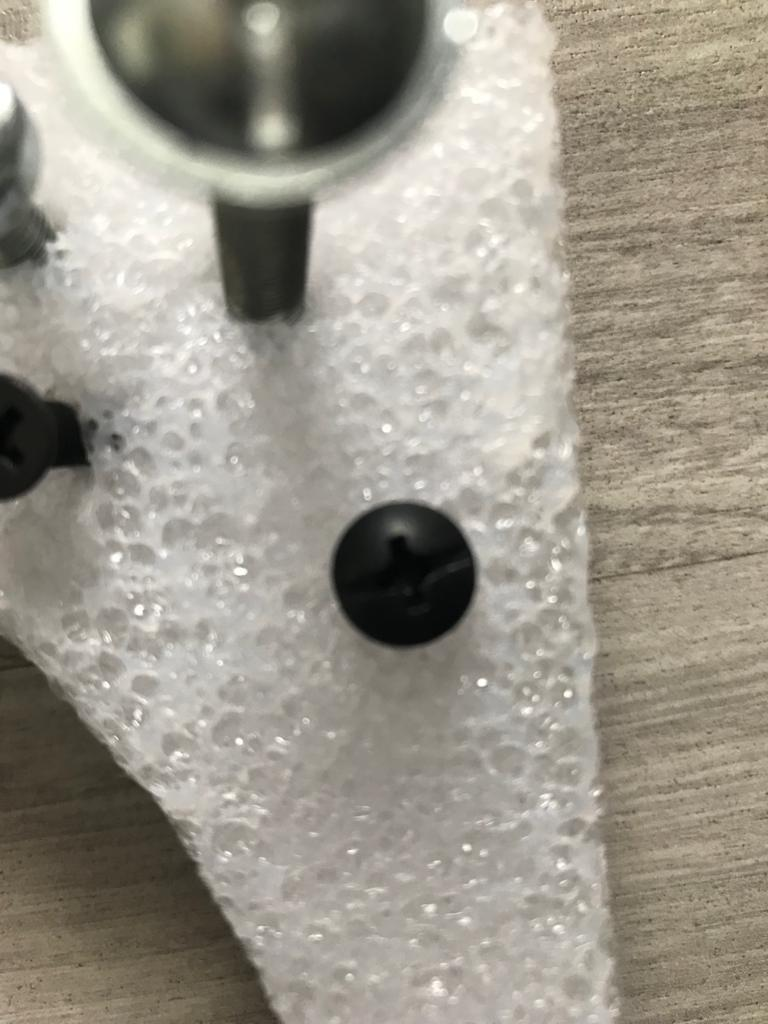PH: (332, 497, 477, 651), (0, 370, 53, 500)
